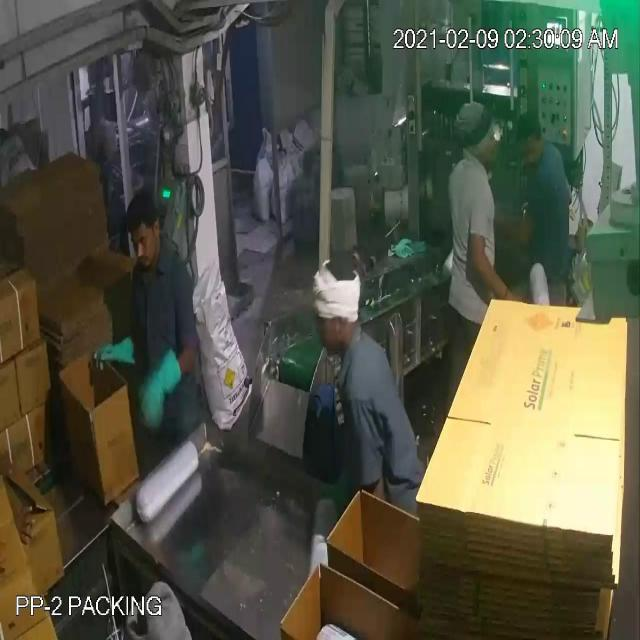Gloves: (49, 52, 494, 390)
